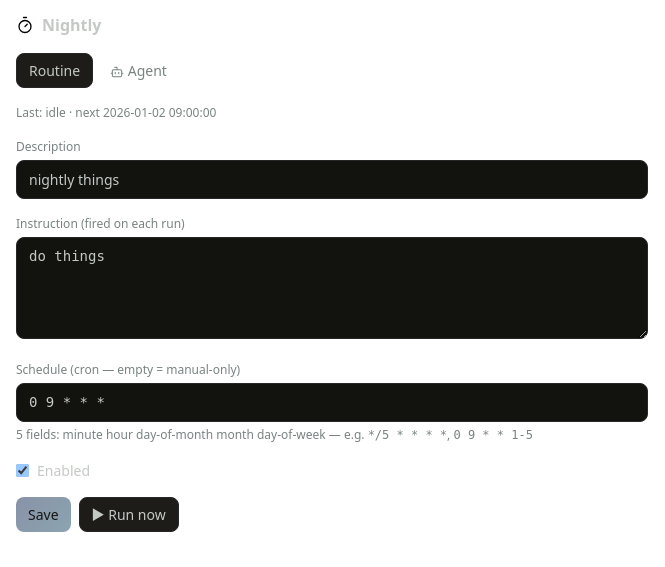
Test: RoutineView › shows an inline error for a bad cron and disables Save
Step 1. Type "bogus cron expression with too many fields x" into the field with test id "routine-schedule" → (332,402), box [16,383,648,422]
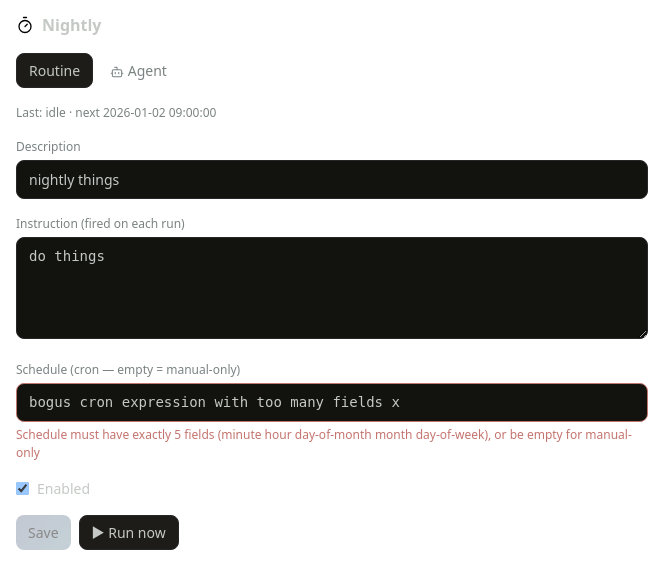
Check: the text "exactly 5 fields" is shown, box [16,426,632,461]
Check: the button with test id "routine-save" is disabled, box [16,515,71,550]
